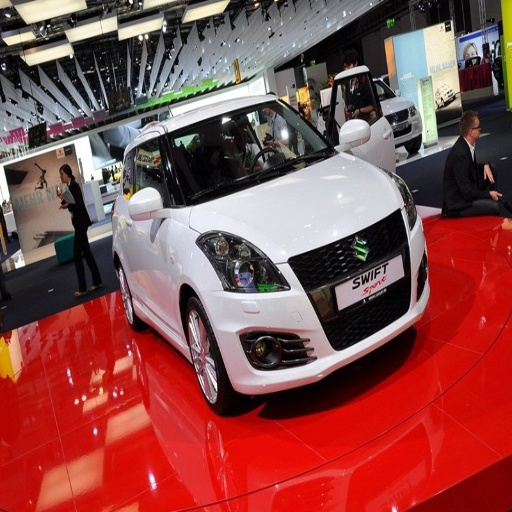front_bumper: (205, 209, 428, 390), (364, 403, 443, 461)
front_right_door: (129, 143, 174, 330)
front_right_light: (197, 231, 287, 293)
hood: (204, 155, 403, 259)
